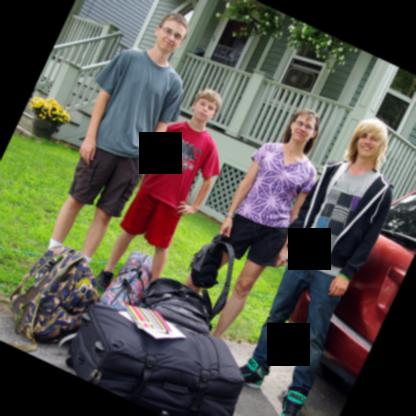backpack: (8, 244, 101, 345), (142, 278, 212, 335), (191, 241, 229, 317)
handbag: (184, 232, 234, 323), (99, 251, 153, 310)
suitcase: (65, 304, 247, 416), (143, 278, 211, 334)
